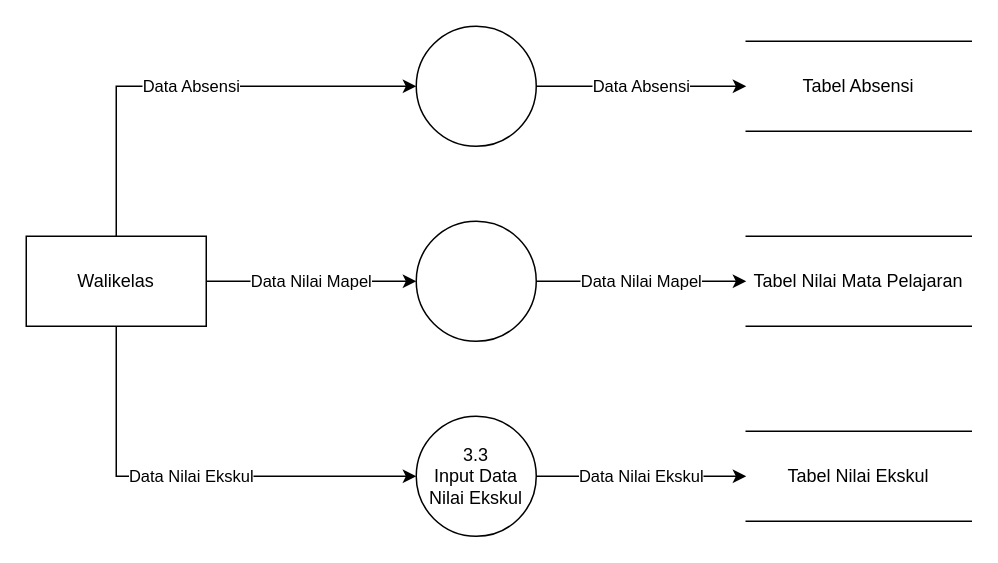
Image size: 998x563. Some labels were removed from this diagram. Each missing label, with the box of its shape:
3.1 Input Data Absensi: (415, 25, 536, 146)
3.2 Input Data Nilai Mapel: (415, 220, 536, 341)
